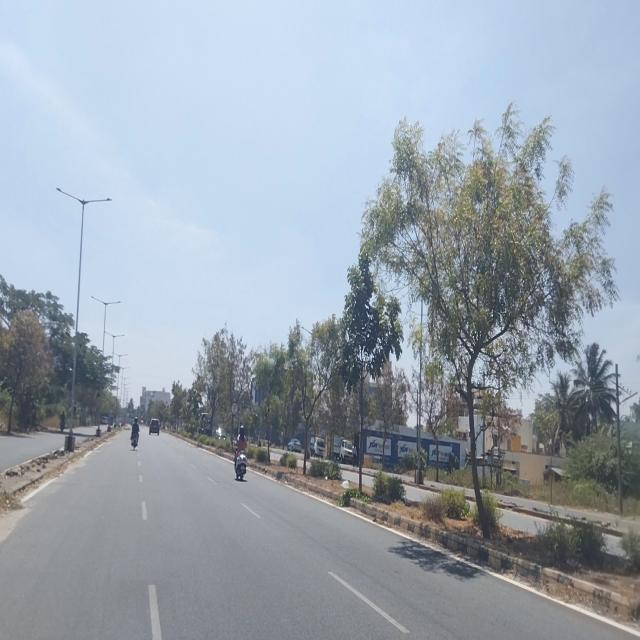bien_cam: (232, 402, 238, 416)
